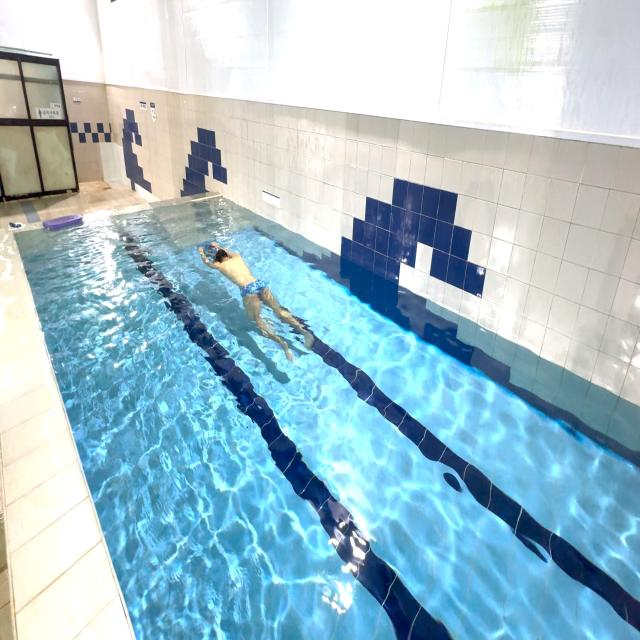Swimming: (194, 225, 318, 373)
